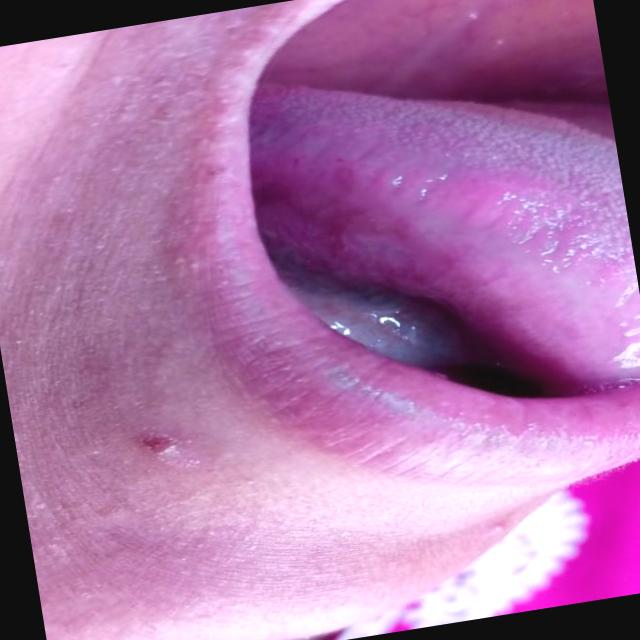No Cancer: (232, 0, 640, 376)
